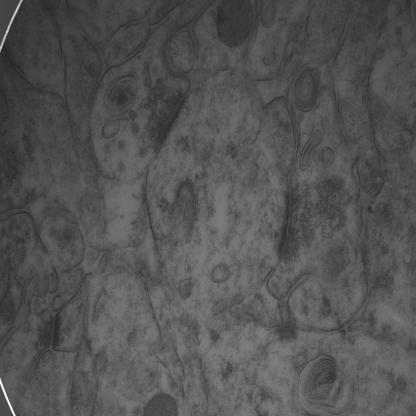mitochondria: (217, 0, 256, 49)
